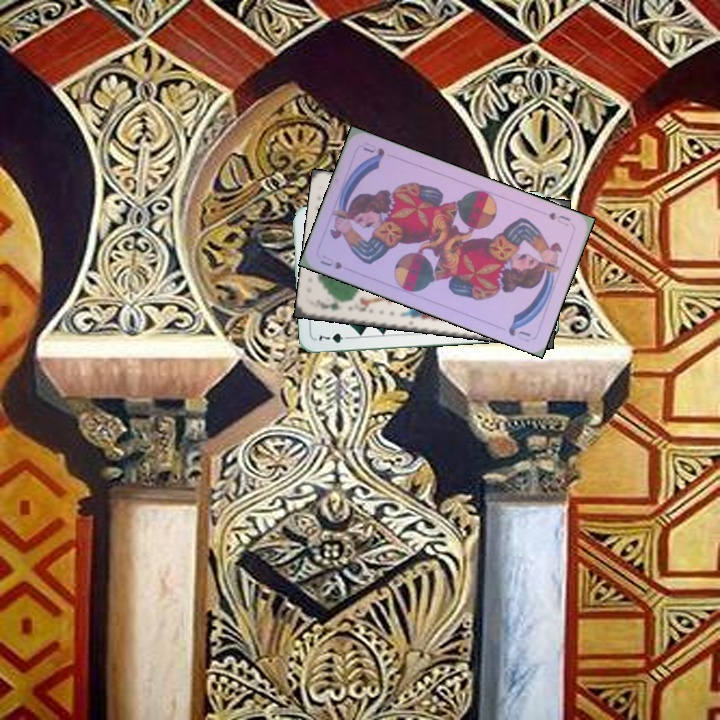G7: (315, 329, 354, 346)
GK: (322, 298, 350, 313)
SU: (316, 251, 345, 272), (544, 208, 573, 228)
